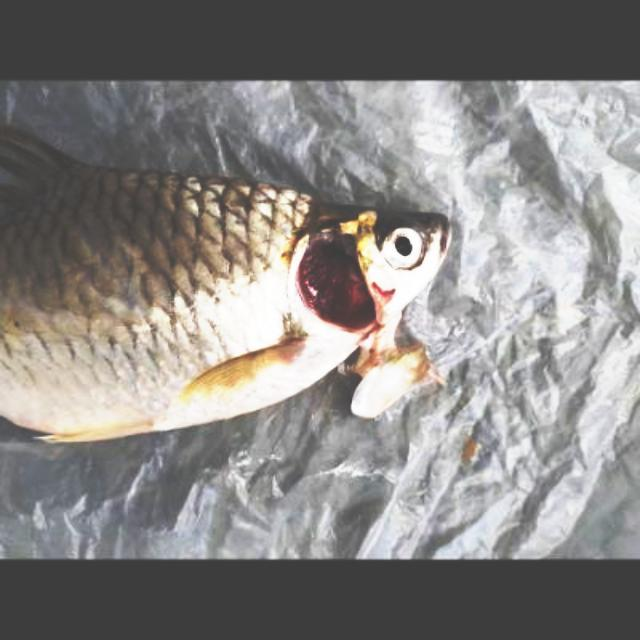Flavobacterium -Bacterial Gill Disease-: (0, 123, 451, 446)
